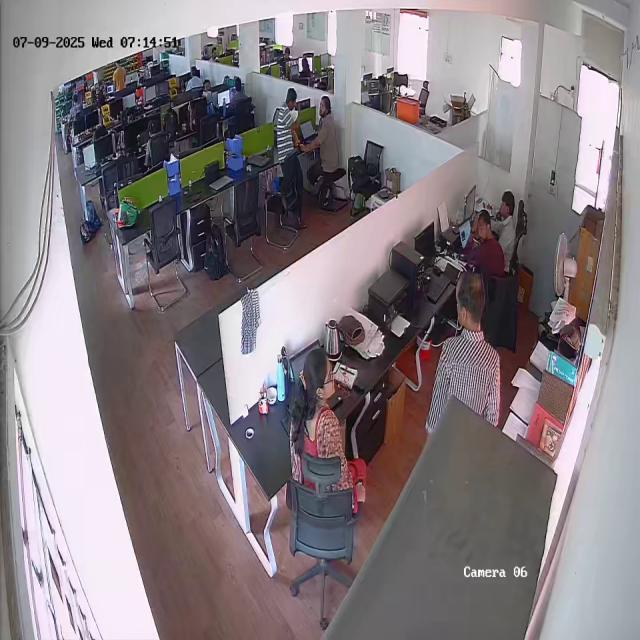person: (422, 266, 498, 421), (286, 347, 363, 482), (276, 86, 307, 228), (465, 208, 500, 270), (315, 96, 339, 172), (494, 190, 518, 255)
